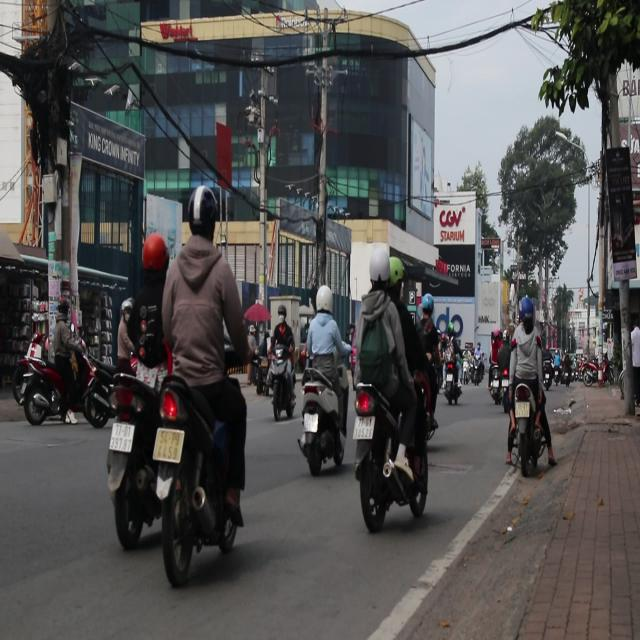motorbike: (97, 342, 238, 591), (351, 364, 427, 533), (296, 364, 347, 476), (17, 343, 72, 424), (512, 377, 549, 486), (77, 346, 119, 428), (264, 339, 297, 420), (440, 348, 466, 406), (248, 335, 271, 398)
